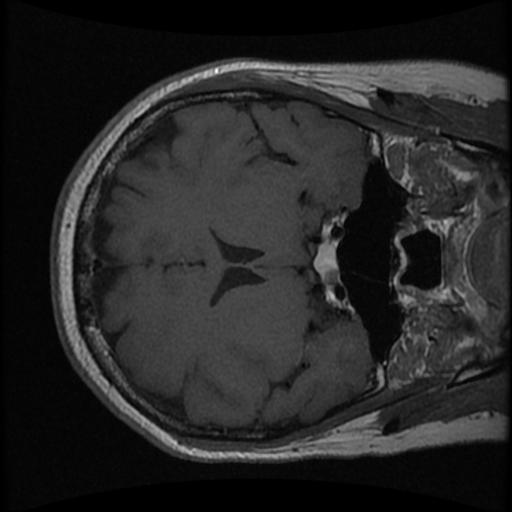pituitary tumour: (314, 240, 341, 287)
